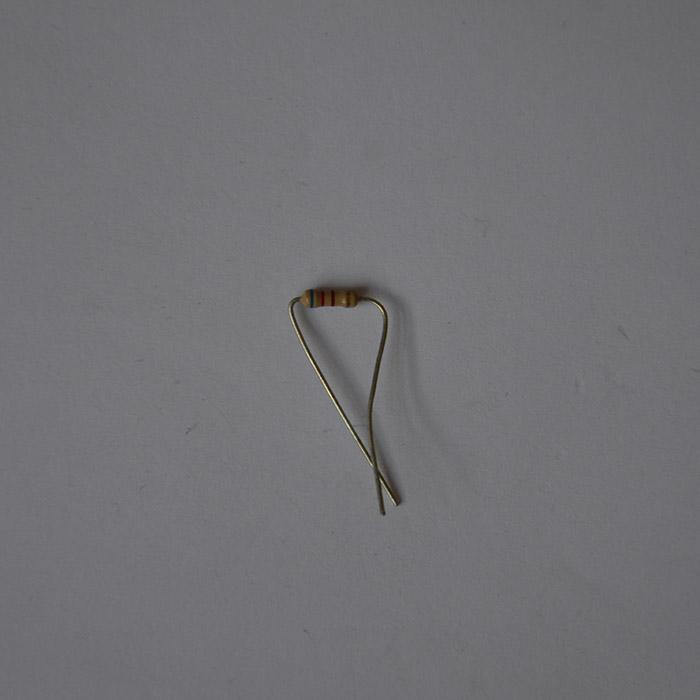resistor: (301, 288, 359, 308)
